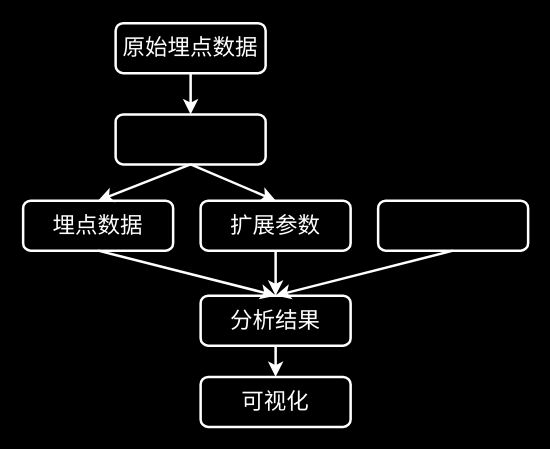
This 550x449 diagram has some shape labels left out. The shapes that lost their labels are listed below. From the top down, each one's box as (x1, y1, x2, y2) in pixels, then its label:
(114, 112, 266, 165): 搜索中间表
(376, 199, 529, 251): 业务维表
